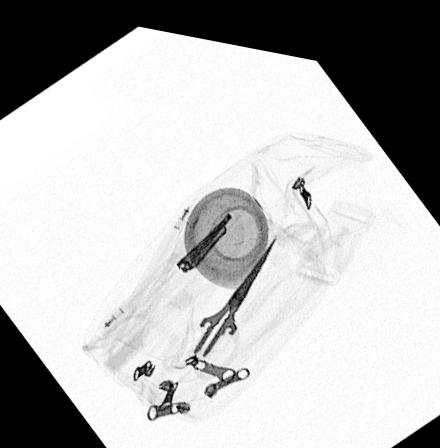Scissors: (160, 220, 276, 376)
